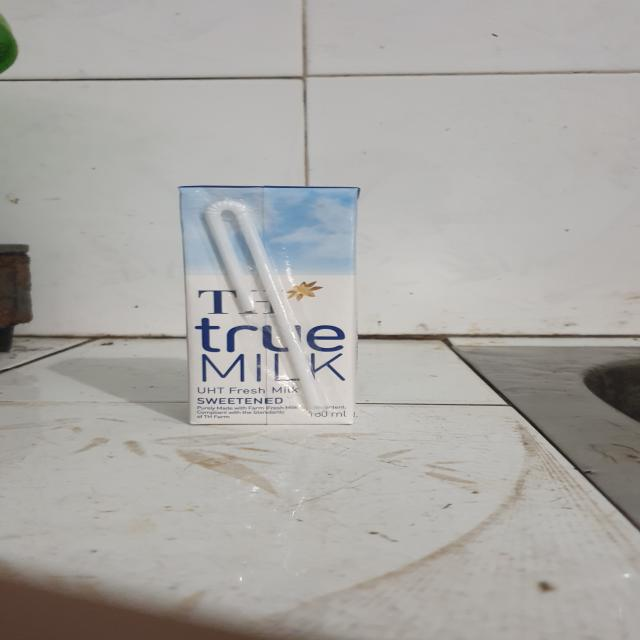TH: (176, 186, 365, 428)
